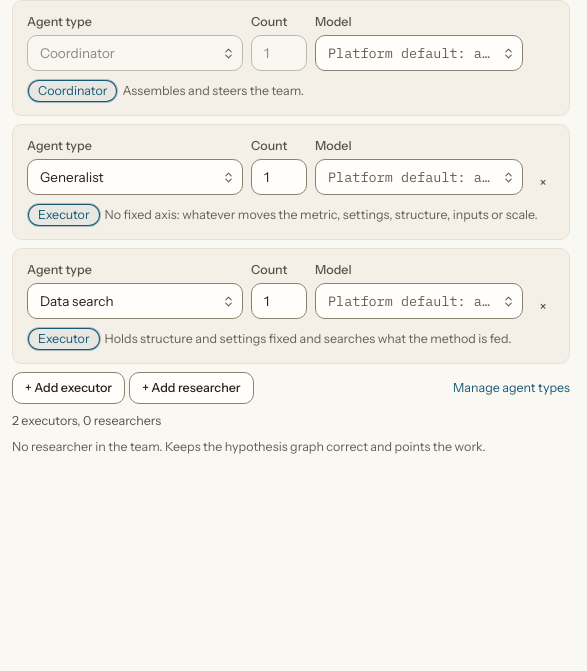
Scenario: composing a team › flags an entry of a type and model another entry has
The width and height of the screenshot is (587, 671).
Click the dropdown named "Team entry 2 type". click: (135, 301)
box: left=27, top=283, right=243, bottom=319
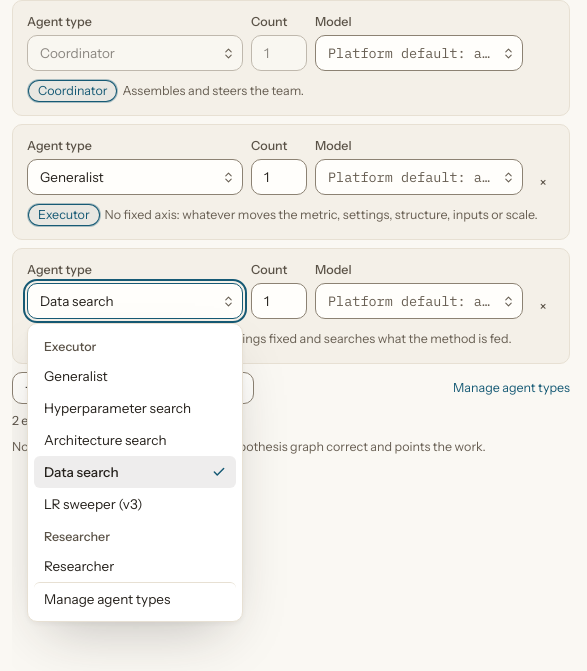
Click the option "Generalist". click: (76, 376)
box: left=44, top=368, right=108, bottom=384
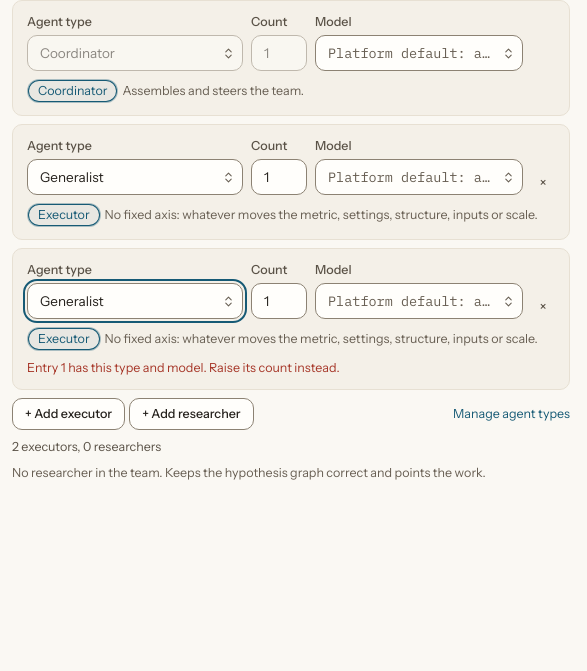
Expected: the text "Entry 1 has this type and model. Raise its count instead." is shown, left=27, top=360, right=340, bottom=375
